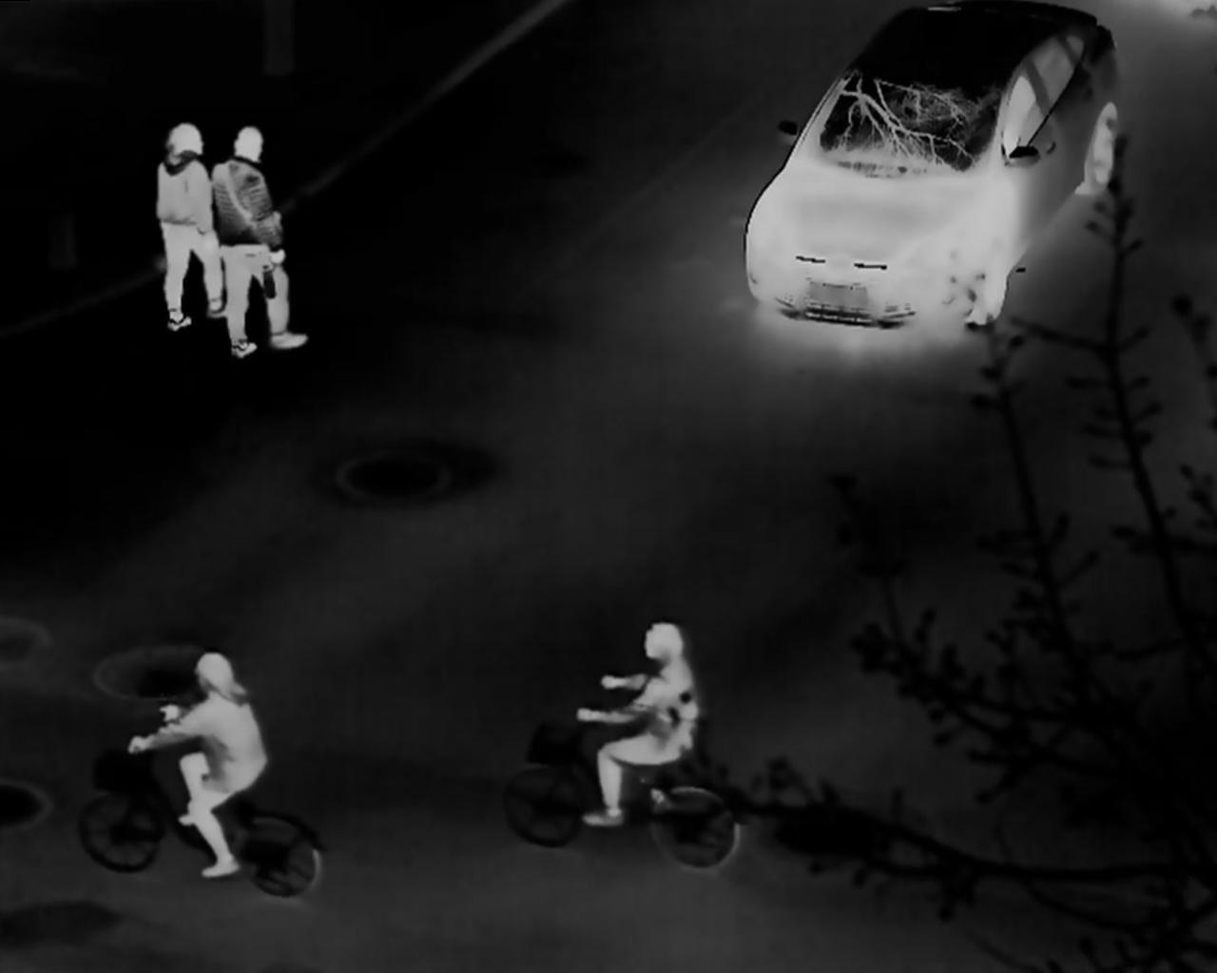person: (127, 651, 270, 876), (575, 619, 699, 826), (211, 127, 305, 358), (156, 120, 236, 333)
